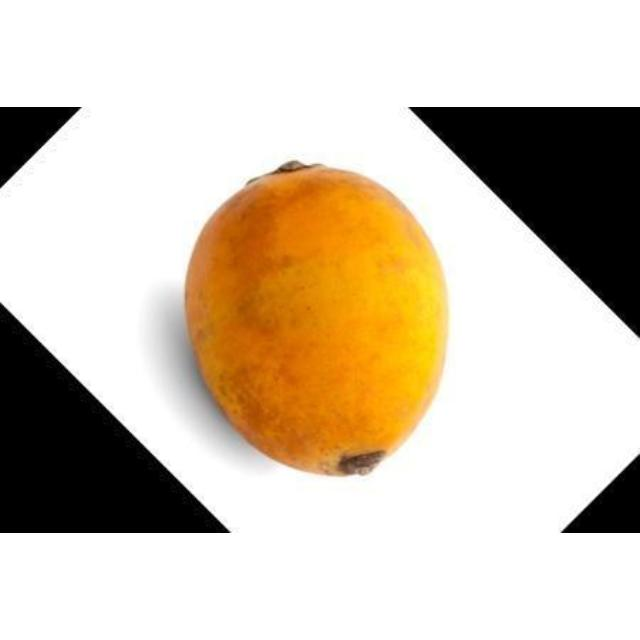good: (183, 162, 449, 478)
